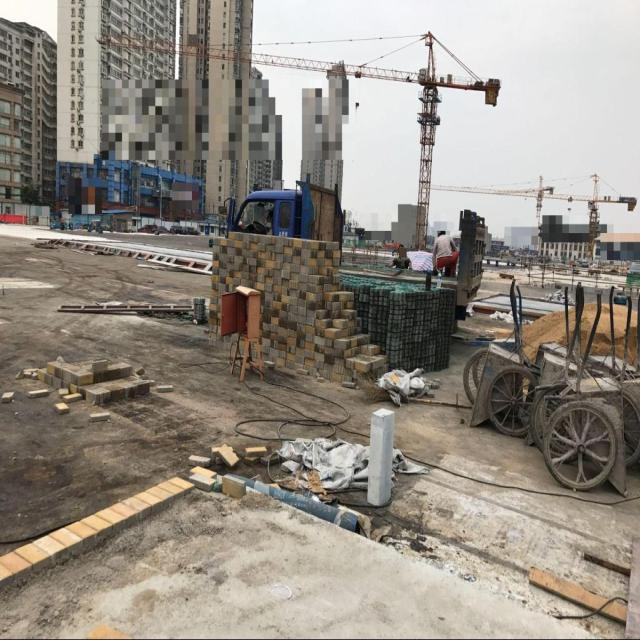crane: (87, 22, 509, 255), (409, 169, 640, 278), (471, 168, 555, 242)
